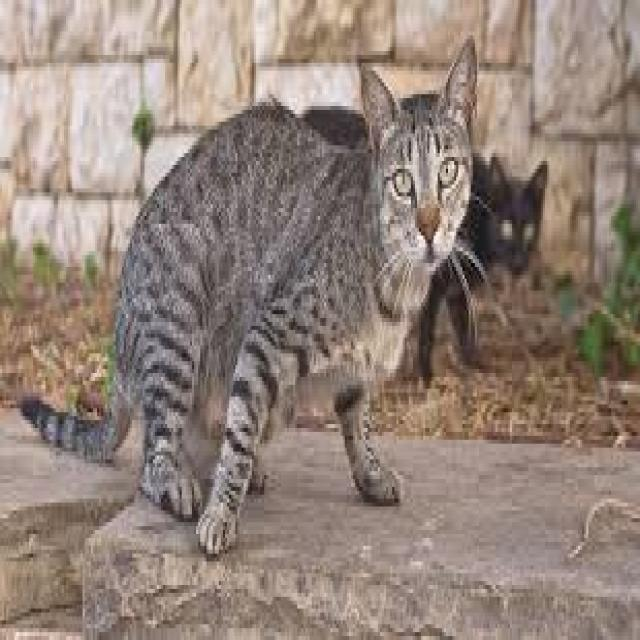cat: (23, 40, 473, 553), (419, 155, 547, 382)
